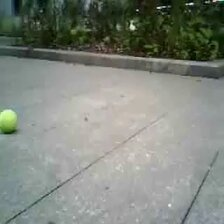tennis: (1, 109, 18, 134)
